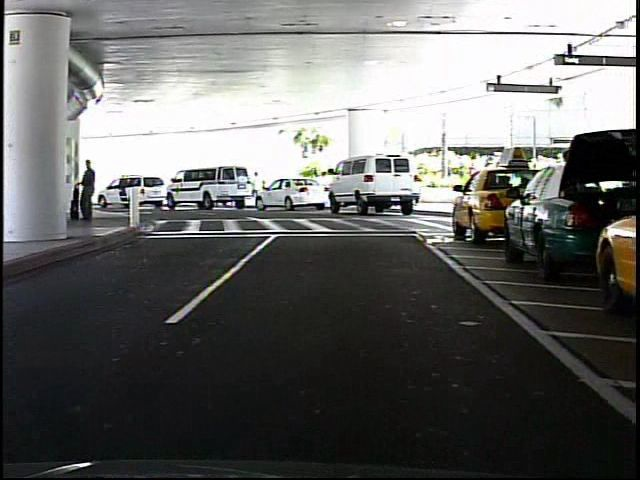person: (81, 157, 101, 223), (250, 170, 265, 206)
